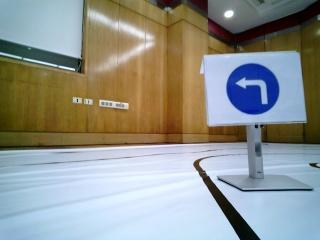left: (211, 54, 300, 121)
